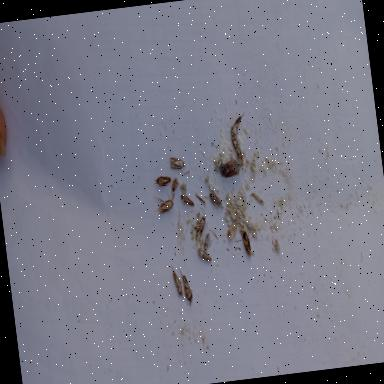pbw: (178, 266, 196, 308), (189, 215, 210, 247), (152, 189, 176, 215), (228, 111, 248, 137), (232, 134, 246, 170), (170, 263, 183, 297), (240, 229, 252, 258), (152, 175, 172, 189), (169, 154, 186, 170), (208, 190, 223, 208), (225, 220, 238, 240), (196, 246, 212, 262), (202, 232, 212, 252), (180, 193, 194, 207), (169, 177, 180, 193), (213, 158, 224, 172)
